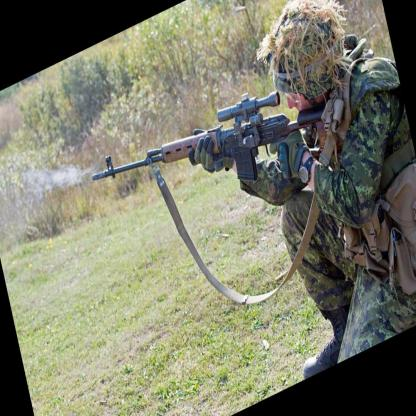rifle: (87, 55, 338, 262)
